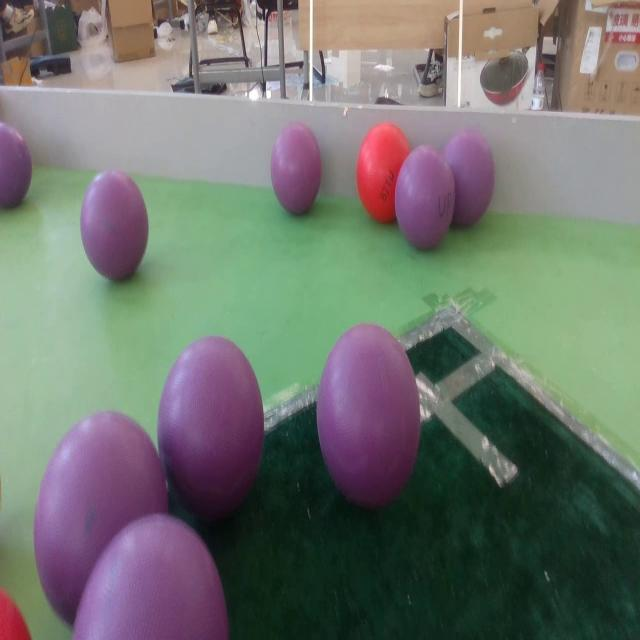invalid: (35, 413, 168, 621), (72, 515, 226, 640), (158, 333, 264, 512), (318, 326, 420, 509), (80, 166, 152, 279), (397, 148, 456, 254), (270, 122, 323, 218), (444, 133, 496, 225)
red: (358, 122, 409, 221), (0, 590, 32, 640)
